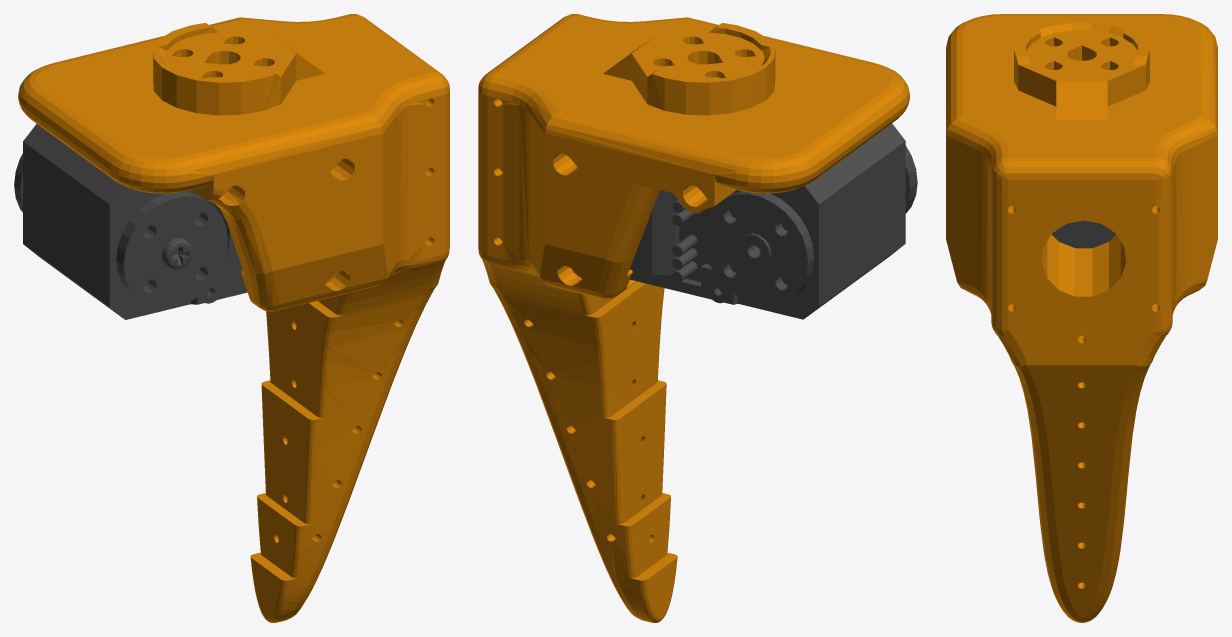
File: Fixed_Jaw.glb
The picture shows the model from 3 angles, left to right: view 1: azimuth 30°, elevation 25°; view 2: azimuth 150°, elevation 25°; view 3: azimuth 270°, elevation 25°; orthographic projection. The views are drawn at different scales.
Parts seen in each view (by area): view 1: Fixed_Jaw_0, Fixed_Jaw_1; view 2: Fixed_Jaw_0, Fixed_Jaw_1; view 3: Fixed_Jaw_0, Fixed_Jaw_1.
Boxes of the visible parts, x1,y1,x2,y2 form: Fixed_Jaw_0: [18, 14, 449, 622]; Fixed_Jaw_1: [14, 124, 247, 319]; Fixed_Jaw_0: [478, 14, 909, 622]; Fixed_Jaw_1: [629, 123, 917, 319]; Fixed_Jaw_0: [946, 14, 1217, 622]; Fixed_Jaw_1: [1051, 220, 1115, 248].
Size of the model in its own units: 0.0656 by 0.1064 by 0.048.
